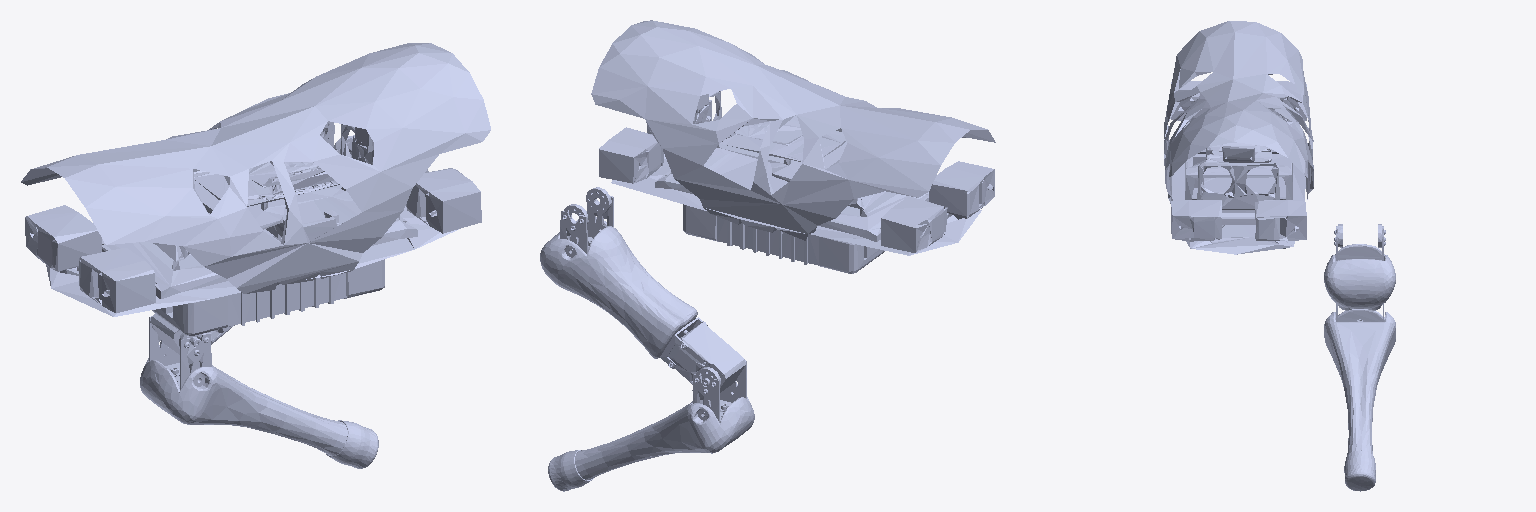
robot.urdf — PinkPanther_URDF_Test:
<?xml version="1.0" encoding="utf-8"?>
<!-- This URDF was automatically created by SolidWorks to URDF Exporter! Originally created by [author] ([email redacted]) 
     Commit Version: 1.6.0-1-g15f4949  Build Version: 1.6.7594.29634
     For more information, please see http://wiki.ros.org/sw_urdf_exporter -->
<robot
  name="PinkPanther_URDF_Test">
  <link
    name="base_link">
    <inertial>
      <origin
        xyz="0.0987263311007735 0.153253414880414 0.222131313906511"
        rpy="0 0 0" />
      <mass
        value="0.943175365880481" />
      <inertia
        ixx="0.00084375409630617"
        ixy="-9.02236504549797E-05"
        ixz="-1.97989231048217E-07"
        iyy="0.00333595130735113"
        iyz="-6.67389400391066E-08"
        izz="0.00280083806667907" />
    </inertial>
    <visual>
      <origin
        xyz="0 0 0"
        rpy="0 0 0" />
      <geometry>
        <mesh
          filename="package://PinkPanther_URDF_Test/meshes/base_link.STL" />
      </geometry>
      <material
        name="">
        <color
          rgba="0.792156862745098 0.819607843137255 0.933333333333333 1" />
      </material>
    </visual>
    <collision>
      <origin
        xyz="0 0 0"
        rpy="0 0 0" />
      <geometry>
        <mesh
          filename="package://PinkPanther_URDF_Test/meshes/base_link.STL" />
      </geometry>
    </collision>
  </link>
  <link
    name="Scapula_Front_Left">
    <inertial>
      <origin
        xyz="-0.0307478229173788 0.010761998026927 0.0454037559923946"
        rpy="0 0 0" />
      <mass
        value="0.0830241411733877" />
      <inertia
        ixx="1.95136190626043E-05"
        ixy="2.08355453350419E-07"
        ixz="3.21766968383282E-07"
        iyy="1.90592987858334E-05"
        iyz="-9.82540532464522E-07"
        izz="2.17756582625573E-05" />
    </inertial>
    <visual>
      <origin
        xyz="0 0 0"
        rpy="0 0 0" />
      <geometry>
        <mesh
          filename="package://PinkPanther_URDF_Test/meshes/Scapula_Front_Left.STL" />
      </geometry>
      <material
        name="">
        <color
          rgba="0.792156862745098 0.819607843137255 0.933333333333333 1" />
      </material>
    </visual>
    <collision>
      <origin
        xyz="0 0 0"
        rpy="0 0 0" />
      <geometry>
        <mesh
          filename="package://PinkPanther_URDF_Test/meshes/Scapula_Front_Left.STL" />
      </geometry>
    </collision>
  </link>
  <joint
    name="Armpit_Front_Left"
    type="continuous">
    <origin
      xyz="0.18159 -0.17372 0.16047"
      rpy="1.5708 -4.0815E-05 3.1416" />
    <parent
      link="base_link" />
    <child
      link="Scapula_Front_Left" />
    <axis
      xyz="1 -4.0815E-05 0" />
  </joint>
  <link
    name="Humerus_Front_Left">
    <inertial>
      <origin
        xyz="0.0599393671973109 -0.0341509189584256 0.0323475501239715"
        rpy="0 0 0" />
      <mass
        value="0.205227539835002" />
      <inertia
        ixx="5.26317426298128E-05"
        ixy="-6.87018255510559E-06"
        ixz="-1.70302696472267E-08"
        iyy="0.000207658536440007"
        iyz="3.20255048863001E-10"
        izz="0.000196664377931757" />
    </inertial>
    <visual>
      <origin
        xyz="0 0 0"
        rpy="0 0 0" />
      <geometry>
        <mesh
          filename="package://PinkPanther_URDF_Test/meshes/Humerus_Front_Left.STL" />
      </geometry>
      <material
        name="">
        <color
          rgba="0.792156862745098 0.819607843137255 0.933333333333333 1" />
      </material>
    </visual>
    <collision>
      <origin
        xyz="0 0 0"
        rpy="0 0 0" />
      <geometry>
        <mesh
          filename="package://PinkPanther_URDF_Test/meshes/Humerus_Front_Left.STL" />
      </geometry>
    </collision>
  </link>
  <joint
    name="Shoulder_Front_Left"
    type="continuous">
    <origin
      xyz="-0.029275 -0.014657 0.02045"
      rpy="0 0 -0.5236" />
    <parent
      link="Scapula_Front_Left" />
    <child
      link="Humerus_Front_Left" />
    <axis
      xyz="0 0 1" />
  </joint>
  <link
    name="Ulna_Front_Left">
    <inertial>
      <origin
        xyz="-0.0602300180729847 -0.0311427169364055 0.0300921592418351"
        rpy="0 0 0" />
      <mass
        value="0.129518977611388" />
      <inertia
        ixx="2.77037088503499E-05"
        ixy="6.55368550234909E-06"
        ixz="1.06768612044157E-09"
        iyy="0.000261061310693983"
        iyz="2.950739644617E-09"
        izz="0.000250498590500472" />
    </inertial>
    <visual>
      <origin
        xyz="0 0 0"
        rpy="0 0 0" />
      <geometry>
        <mesh
          filename="package://PinkPanther_URDF_Test/meshes/Ulna_Front_Left.STL" />
      </geometry>
      <material
        name="">
        <color
          rgba="0.792156862745098 0.819607843137255 0.933333333333333 1" />
      </material>
    </visual>
    <collision>
      <origin
        xyz="0 0 0"
        rpy="0 0 0" />
      <geometry>
        <mesh
          filename="package://PinkPanther_URDF_Test/meshes/Ulna_Front_Left.STL" />
      </geometry>
    </collision>
  </link>
  <joint
    name="Elbow_Front_Left"
    type="continuous">
    <origin
      xyz="0.14707 -0.034829 0.0025103"
      rpy="0 0 1.0472" />
    <parent
      link="Humerus_Front_Left" />
    <child
      link="Ulna_Front_Left" />
    <axis
      xyz="0 0 1" />
  </joint>
</robot>

--- What the picture shows (computed from the rendered views, not written in the file) ---
Views: 3 orthographic renders of the robot side by side, from view 1: azimuth 30°, elevation 25°; view 2: azimuth 150°, elevation 25°; view 3: azimuth 270°, elevation 25°.
Robot: PinkPanther_URDF_Test — 4 links, 3 joints (3 continuous); root link base_link; default pose: all joints at 0.
Visible links, largest first — view 1: base_link, Ulna_Front_Left, Humerus_Front_Left; view 2: base_link, Humerus_Front_Left, Ulna_Front_Left; view 3: base_link, Ulna_Front_Left, Humerus_Front_Left.
Boxes of the visible links, <box> form: base_link: <box>21,43,490,335</box>; Ulna_Front_Left: <box>140,316,378,468</box>; Humerus_Front_Left: <box>150,121,352,354</box>; base_link: <box>591,20,995,273</box>; Humerus_Front_Left: <box>540,187,745,392</box>; Ulna_Front_Left: <box>548,360,754,491</box>; base_link: <box>1164,21,1313,254</box>; Ulna_Front_Left: <box>1324,302,1395,491</box>; Humerus_Front_Left: <box>1324,224,1395,310</box>.
Size in the robot's own frame: 0.2847 by 0.1934 by 0.3289 metres.
3 mesh visuals loaded from 4 distinct referenced files (3 binary STL); not drawn: 1 (reference not matched to a file when rendering).